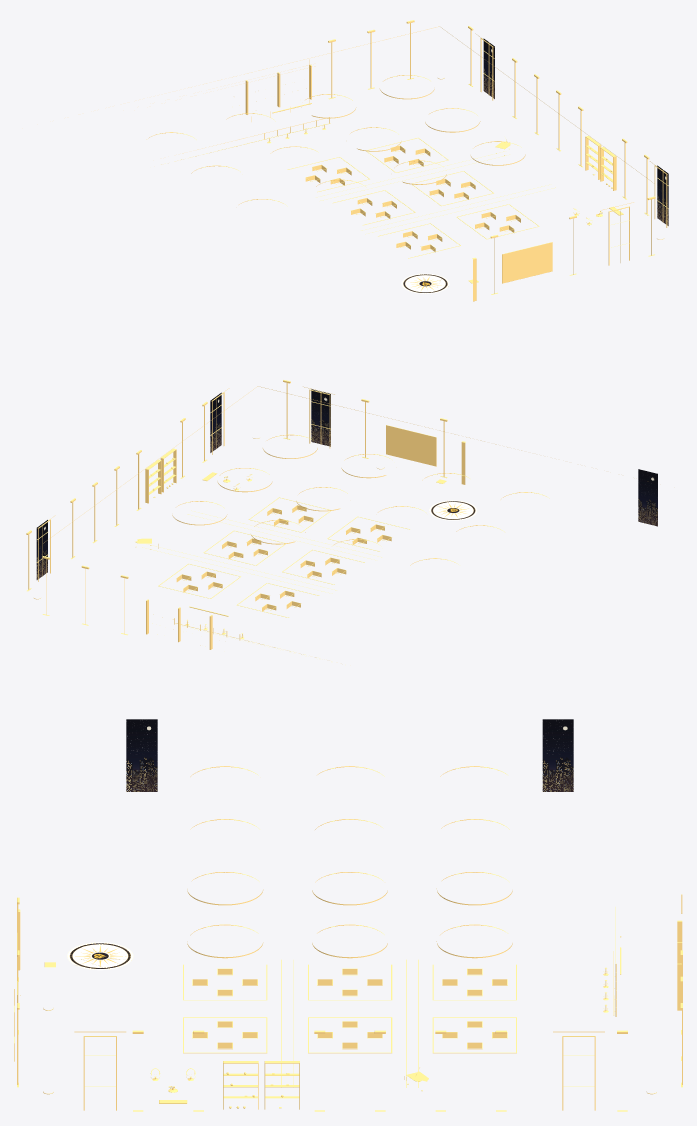
Rendered from tb_lounge_p2.glb.
3 renders of one model, top to bottom at view 1: azimuth 30°, elevation 25°; view 2: azimuth 150°, elevation 25°; view 3: azimuth 270°, elevation 25°, orthographic. The views are drawn at different scales.
Visible parts, largest first — view 1: tb_lounge_p2; view 2: tb_lounge_p2; view 3: tb_lounge_p2.
Boxes of the visible parts, box(x1,y1,x2,y2) form: tb_lounge_p2: box(146, 20, 668, 301); tb_lounge_p2: box(26, 380, 657, 661); tb_lounge_p2: box(14, 719, 682, 1111).
Bounding box in the file's own units: 72.6 × 11.1 × 64.3.
4 materials, 3 textured.
